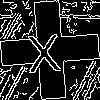X: (25, 25, 62, 73)
